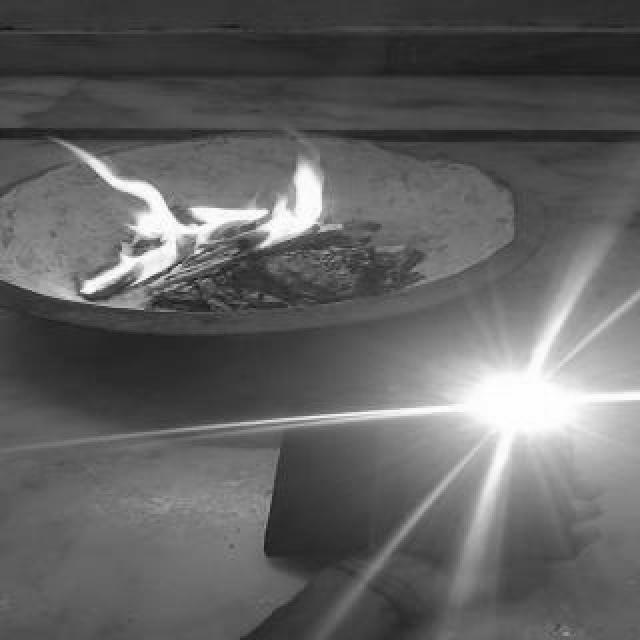Fire: (96, 142, 354, 282)
